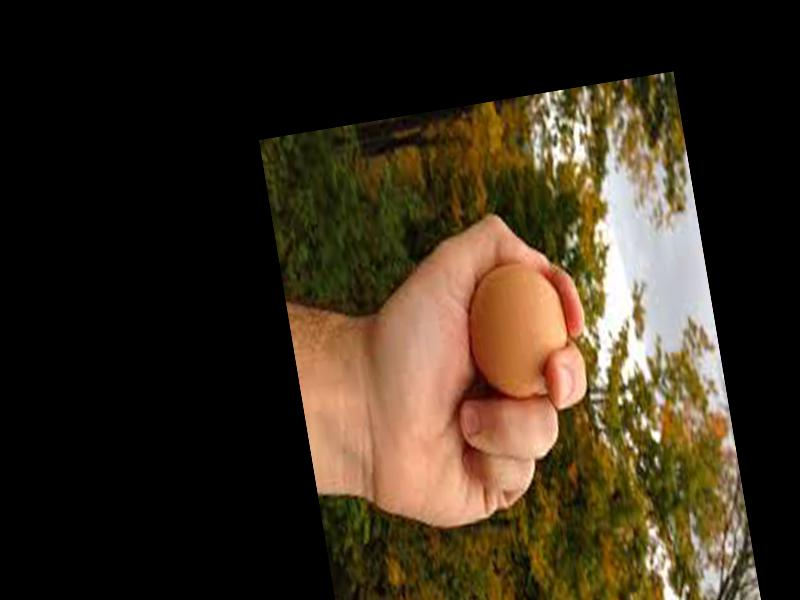Eggs: (460, 258, 577, 410)
